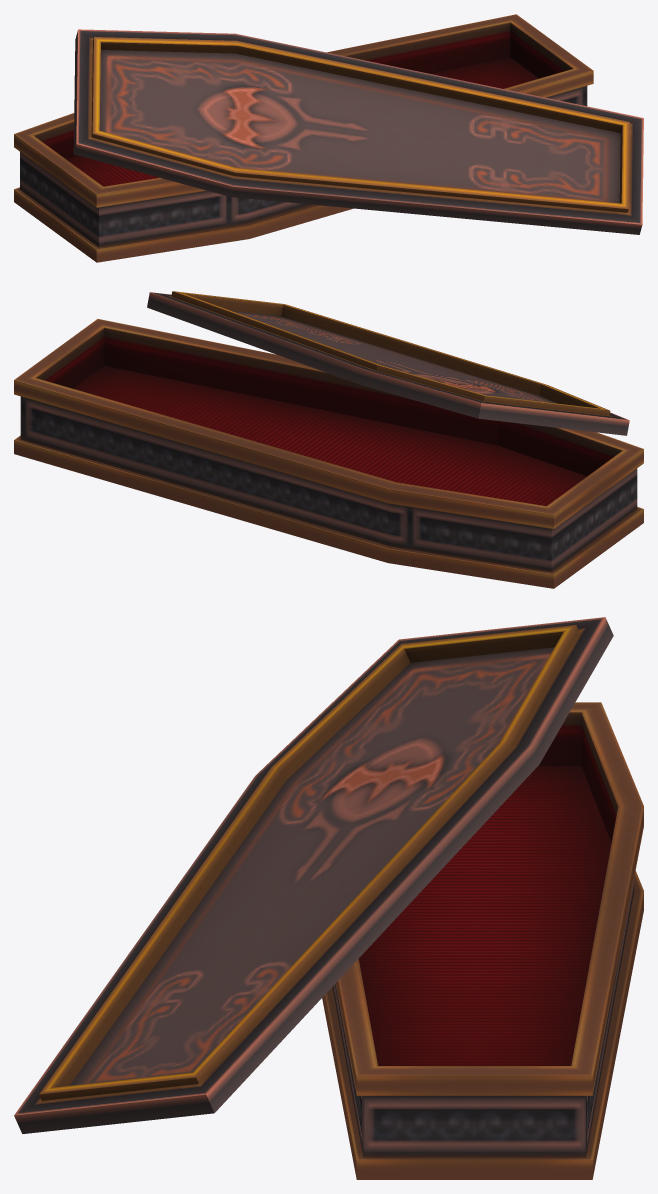
Rendered from DraculaCoffin1.FBX.
The picture shows the model from 3 angles, top to bottom: view 1: azimuth 30°, elevation 25°; view 2: azimuth 150°, elevation 25°; view 3: azimuth 270°, elevation 25°; orthographic projection. The views are drawn at different scales.
Visible parts, largest first — view 1: DraculaCoffin1; view 2: DraculaCoffin1; view 3: DraculaCoffin1.
Boxes of the visible parts, left/top/right/bottom form: DraculaCoffin1: left=14, top=14, right=643, bottom=262; DraculaCoffin1: left=14, top=291, right=643, bottom=588; DraculaCoffin1: left=14, top=617, right=643, bottom=1179.
Bounding box in the file's own units: 129 × 38.17 × 90.84.
